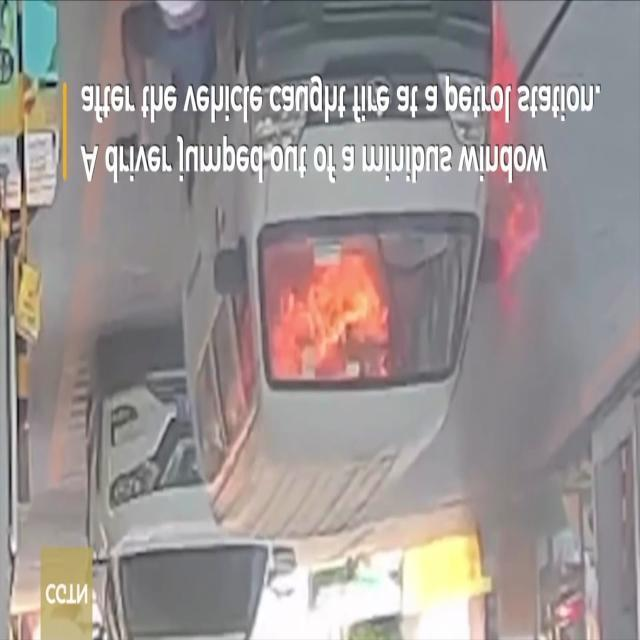fire: (266, 238, 409, 384), (486, 15, 546, 334)
